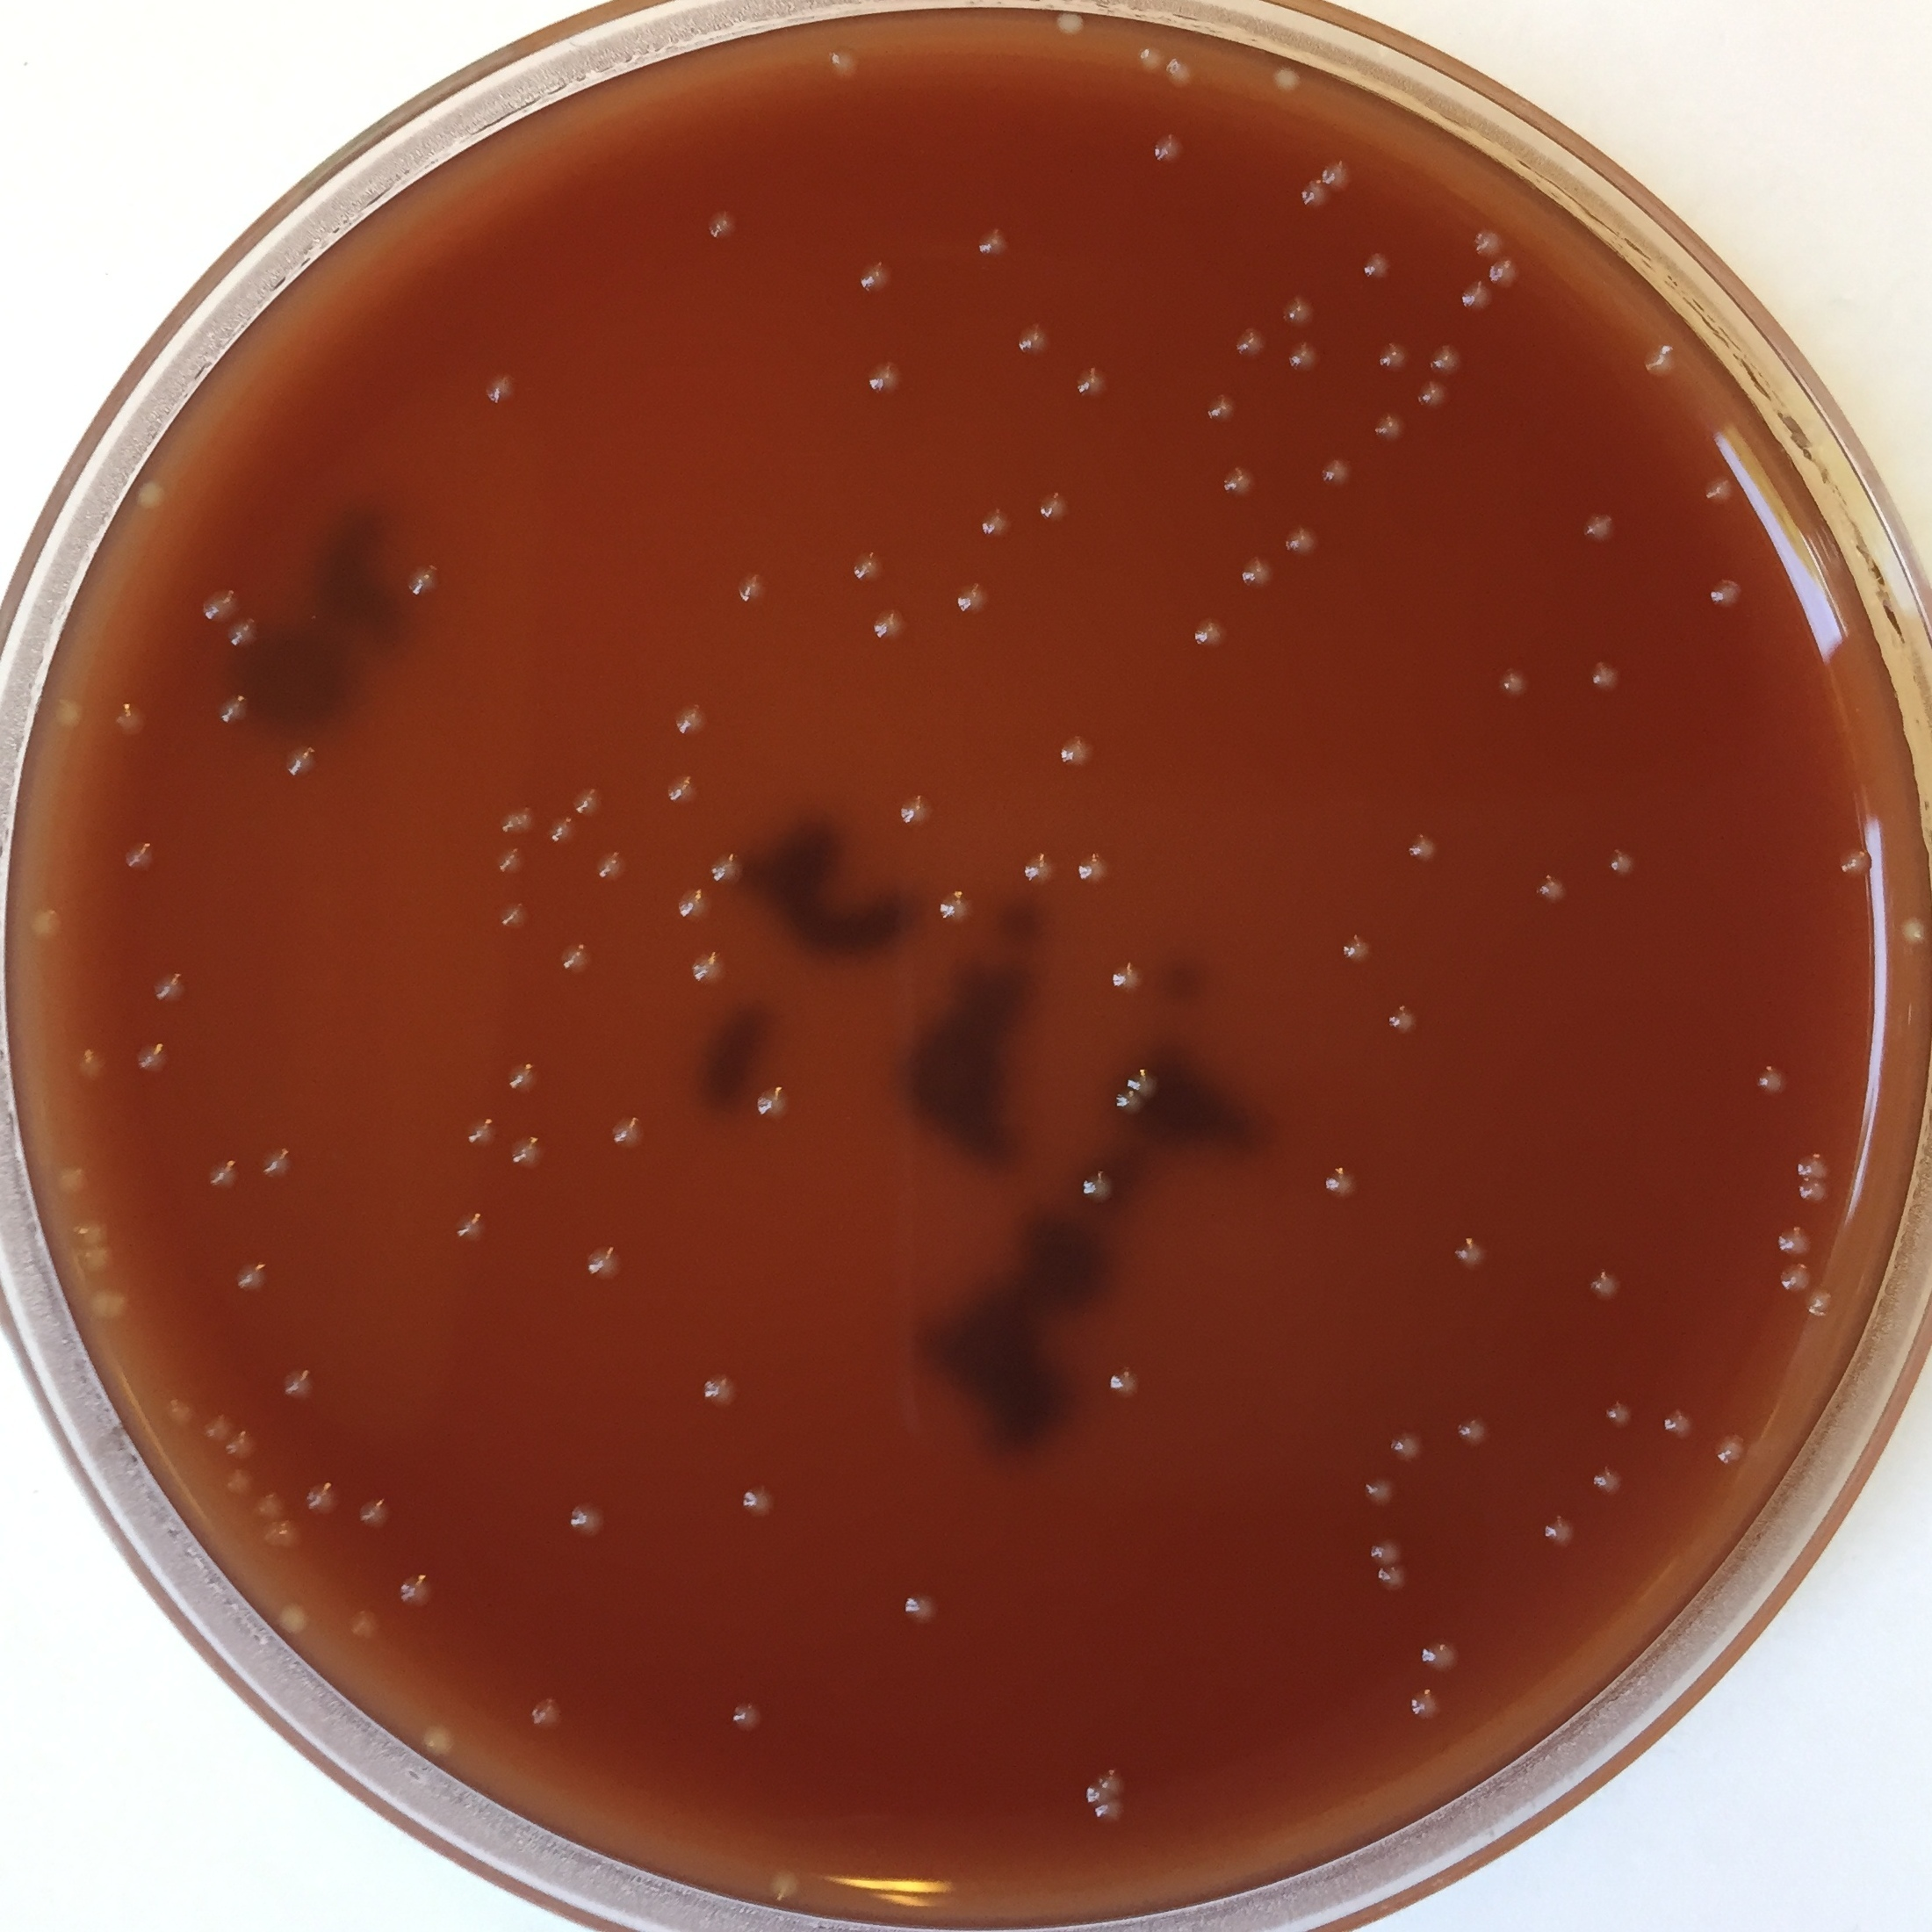sp06: (150, 966, 198, 1012), (823, 41, 869, 87), (402, 559, 449, 602), (1070, 361, 1120, 402), (23, 909, 74, 948), (605, 1109, 649, 1154), (1382, 1000, 1426, 1044), (69, 1039, 111, 1085), (303, 1476, 349, 1518), (1322, 1157, 1364, 1203), (1316, 157, 1362, 200), (354, 1490, 398, 1532), (1640, 341, 1684, 384), (858, 255, 904, 295), (262, 1514, 310, 1553), (582, 1240, 625, 1283), (1578, 508, 1621, 550), (1016, 320, 1058, 363), (869, 603, 911, 646), (1419, 1631, 1463, 1672), (862, 357, 906, 398), (60, 1215, 119, 1246), (131, 1037, 172, 1079), (566, 1499, 609, 1539), (757, 1867, 800, 1907), (1277, 295, 1322, 334), (478, 368, 522, 407), (281, 741, 326, 780), (752, 1081, 791, 1125), (393, 1575, 439, 1612), (525, 1693, 566, 1734), (1387, 1426, 1428, 1467), (708, 847, 748, 888), (678, 885, 718, 925), (1017, 849, 1058, 890), (701, 1368, 741, 1408), (216, 692, 258, 731), (120, 837, 159, 879), (899, 789, 941, 828), (508, 1127, 545, 1171), (554, 938, 598, 975), (1214, 465, 1258, 502), (1108, 1359, 1145, 1403), (1775, 1253, 1810, 1299), (278, 1364, 317, 1405), (1449, 1235, 1490, 1274), (849, 545, 890, 584), (690, 948, 731, 987), (1361, 1472, 1403, 1509), (202, 582, 239, 625), (1120, 1063, 1162, 1100), (1281, 340, 1325, 375), (1237, 554, 1276, 593), (1154, 129, 1192, 168), (734, 568, 773, 607), (74, 1238, 111, 1279), (1410, 1684, 1447, 1725), (1711, 1426, 1748, 1467), (113, 697, 150, 738), (663, 771, 704, 809), (1058, 731, 1095, 771), (1776, 1221, 1812, 1263), (1164, 50, 1200, 92), (1081, 1168, 1116, 1210), (464, 1113, 501, 1152), (451, 1207, 488, 1246), (421, 1718, 458, 1757), (731, 1697, 770, 1734), (901, 1591, 939, 1628), (1801, 1279, 1838, 1318), (1192, 610, 1230, 649), (1361, 248, 1398, 287), (1424, 343, 1463, 380), (1470, 225, 1509, 262), (741, 1479, 777, 1520), (1495, 663, 1536, 699), (955, 577, 991, 617), (1108, 961, 1148, 996), (1231, 329, 1274, 363), (230, 1260, 267, 1297), (274, 1603, 311, 1640), (1660, 1405, 1697, 1442), (1603, 844, 1640, 881), (1840, 842, 1877, 879), (1269, 60, 1306, 97), (226, 612, 264, 649), (258, 1141, 294, 1180), (1704, 472, 1739, 511), (701, 207, 740, 242), (1414, 380, 1454, 414), (205, 1155, 242, 1191), (1453, 1414, 1488, 1451), (1541, 1513, 1576, 1550), (1534, 874, 1571, 909), (1589, 656, 1624, 694), (1709, 575, 1746, 610), (1051, 5, 1088, 41), (978, 221, 1014, 258), (978, 508, 1014, 545), (1039, 488, 1076, 524), (494, 897, 531, 932), (938, 893, 975, 929), (1106, 1083, 1143, 1118), (1591, 1465, 1629, 1499), (1755, 1062, 1794, 1095), (1283, 520, 1322, 554), (1587, 1267, 1622, 1302), (1376, 338, 1412, 373), (133, 476, 168, 511), (672, 699, 708, 734), (51, 1161, 88, 1194), (506, 1058, 540, 1095), (1368, 1536, 1405, 1569), (1605, 1394, 1638, 1431), (1460, 278, 1497, 311), (1486, 257, 1523, 290), (497, 803, 534, 837), (1079, 849, 1111, 888), (1798, 1177, 1831, 1212), (494, 846, 529, 879), (593, 847, 628, 881), (1898, 915, 1930, 952), (571, 784, 609, 816), (203, 1410, 234, 1449), (161, 1394, 195, 1428), (1322, 453, 1355, 487), (1095, 1762, 1127, 1798), (1371, 412, 1408, 442), (1097, 1792, 1131, 1824), (350, 1610, 386, 1640), (1338, 936, 1375, 964), (223, 1467, 255, 1499), (1138, 44, 1169, 76), (545, 814, 577, 846), (1403, 833, 1437, 863), (1205, 393, 1238, 423), (1375, 1562, 1410, 1591), (1297, 175, 1327, 207), (257, 1493, 287, 1523), (1798, 1146, 1828, 1177), (83, 1288, 110, 1322), (223, 1431, 257, 1458), (53, 701, 87, 727), (1086, 1780, 1115, 1808)
